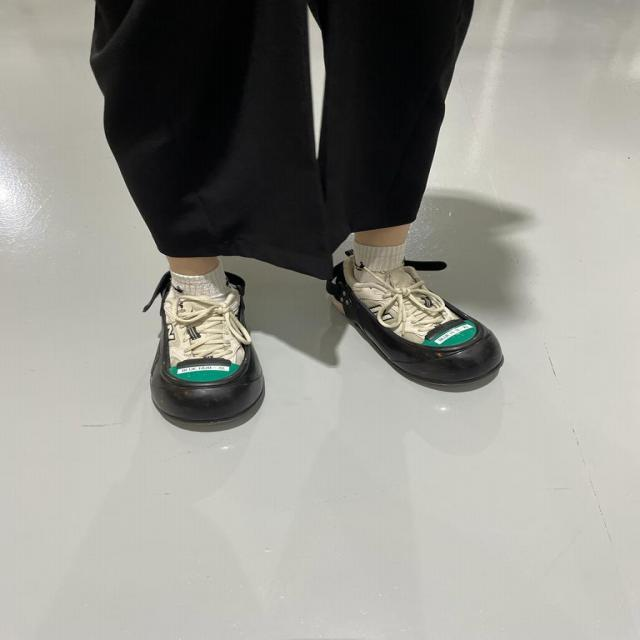shoes: (320, 253, 517, 406), (150, 264, 267, 443)
